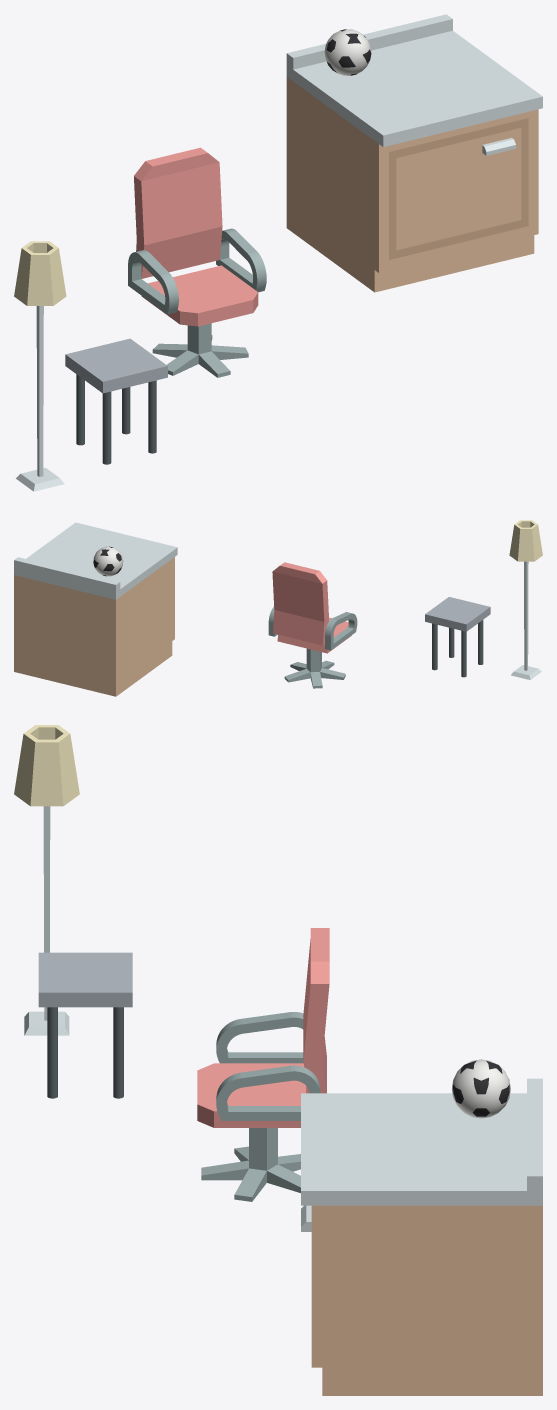
3 renders of one model, top to bottom at view 1: azimuth 30°, elevation 25°; view 2: azimuth 150°, elevation 25°; view 3: azimuth 270°, elevation 25°, orthographic. The views are drawn at different scales.
Parts seen in each view (by area): view 1: cabinet_blue__kitchenCabinet(Clone), deskchair_black__chair, cabinet_blue__door, lamp_white__lampRoundFloor(Clone), stool_purple__stool_purple seat, deskchair_black__chairDesk(Clone), soccer_white__soccer_white, stool_purple__stool_purple leg, stool_purple__stool_purple leg.002, stool_purple__stool_purple leg.001; view 2: cabinet_blue__kitchenCabinet(Clone), deskchair_black__chair, lamp_white__lampRoundFloor(Clone), stool_purple__stool_purple seat, deskchair_black__chairDesk(Clone), soccer_white__soccer_white, stool_purple__stool_purple leg.001, stool_purple__stool_purple leg.003, stool_purple__stool_purple leg; view 3: cabinet_blue__kitchenCabinet(Clone), deskchair_black__chair, lamp_white__lampRoundFloor(Clone), stool_purple__stool_purple seat, deskchair_black__chairDesk(Clone), soccer_white__soccer_white, stool_purple__stool_purple leg.003, stool_purple__stool_purple leg.002.
Part boxes in pixels (bbox=[...]): cabinet_blue__kitchenCabinet(Clone): bbox=[286, 14, 542, 292]; deskchair_black__chair: bbox=[128, 147, 266, 326]; cabinet_blue__door: bbox=[389, 118, 528, 259]; lamp_white__lampRoundFloor(Clone): bbox=[14, 241, 66, 491]; stool_purple__stool_purple seat: bbox=[65, 338, 167, 393]; deskchair_black__chairDesk(Clone): bbox=[152, 323, 248, 377]; soccer_white__soccer_white: bbox=[324, 29, 371, 75]; stool_purple__stool_purple leg: bbox=[102, 391, 111, 464]; stool_purple__stool_purple leg.002: bbox=[148, 380, 156, 453]; stool_purple__stool_purple leg.001: bbox=[76, 374, 84, 445]; cabinet_blue__kitchenCabinet(Clone): bbox=[14, 522, 177, 696]; deskchair_black__chair: bbox=[268, 562, 357, 653]; lamp_white__lampRoundFloor(Clone): bbox=[509, 520, 542, 679]; stool_purple__stool_purple seat: bbox=[425, 597, 490, 631]; deskchair_black__chairDesk(Clone): bbox=[284, 648, 345, 688]; soccer_white__soccer_white: bbox=[93, 546, 123, 576]; stool_purple__stool_purple leg.001: bbox=[461, 630, 466, 677]; stool_purple__stool_purple leg.003: bbox=[432, 623, 437, 670]; stool_purple__stool_purple leg: bbox=[478, 620, 483, 664]; cabinet_blue__kitchenCabinet(Clone): bbox=[301, 1078, 542, 1395]; deskchair_black__chair: bbox=[197, 928, 329, 1127]; lamp_white__lampRoundFloor(Clone): bbox=[14, 725, 79, 1035]; stool_purple__stool_purple seat: bbox=[38, 952, 132, 1007]; deskchair_black__chairDesk(Clone): bbox=[201, 1128, 300, 1201]; soccer_white__soccer_white: bbox=[452, 1059, 510, 1118]; stool_purple__stool_purple leg.003: bbox=[113, 1007, 123, 1098]; stool_purple__stool_purple leg.002: bbox=[47, 1007, 57, 1098].
Bounding box in the file's own units: 3.36 × 1.2 × 1.97.
